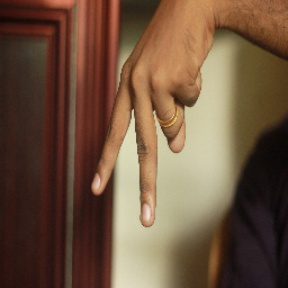Y: (89, 54, 208, 233)
